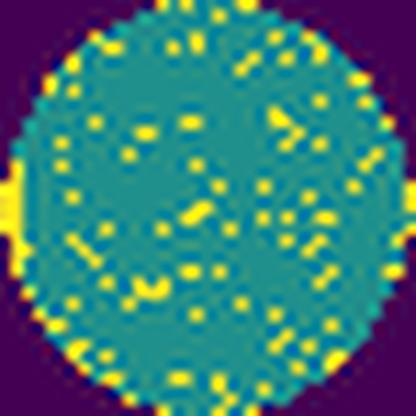Edge-Loc: (0, 155, 37, 280)
